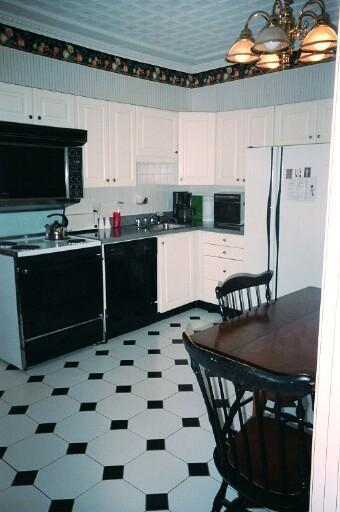Electrodomestico: (9, 244, 111, 352), (247, 151, 318, 283), (106, 244, 159, 325)
